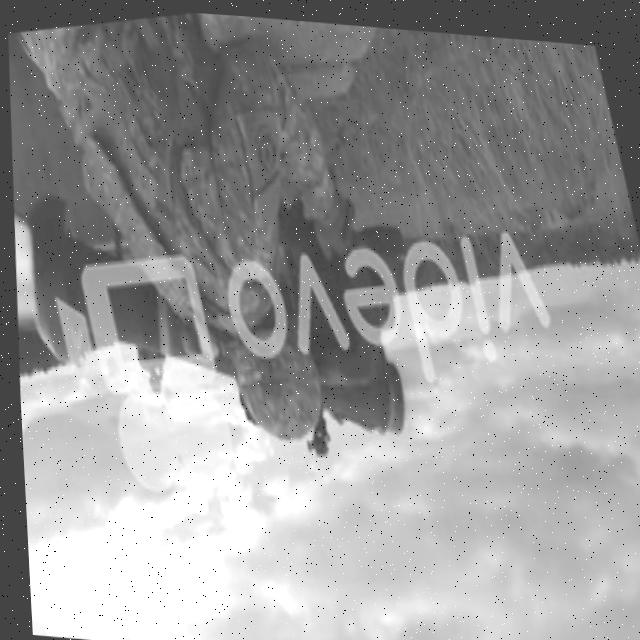rocket: (6, 147, 413, 493)
